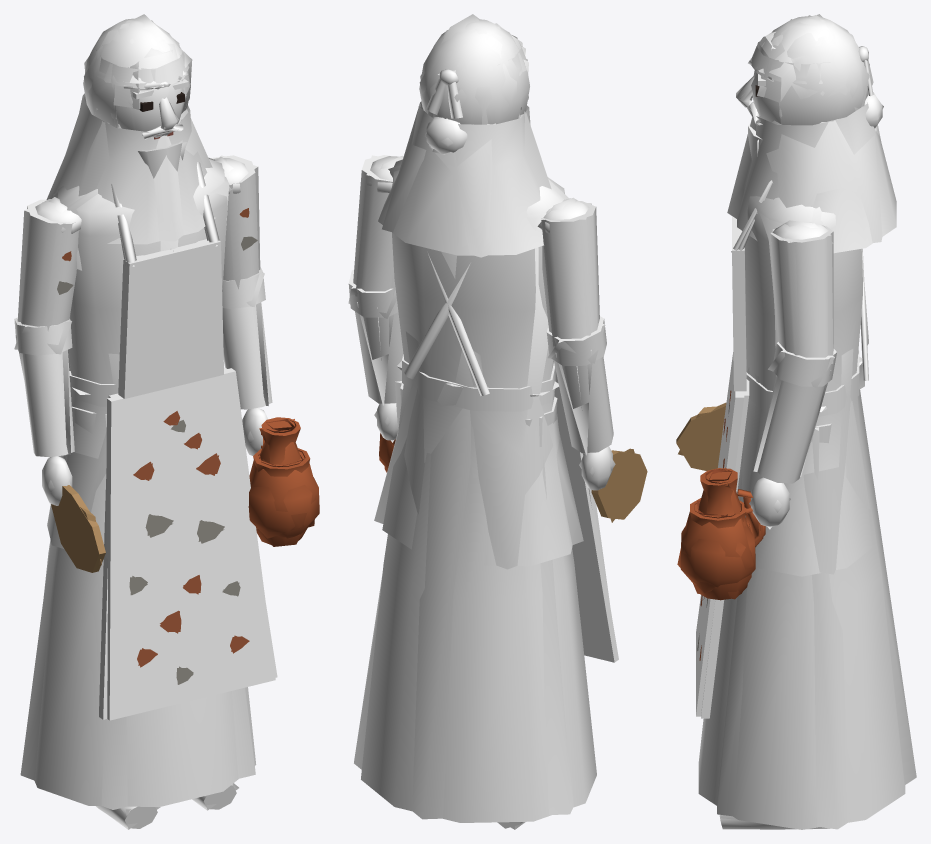
Rendered from char_potter.glb.
3 renders of one model, left to right at view 1: azimuth 30°, elevation 25°; view 2: azimuth 150°, elevation 25°; view 3: azimuth 270°, elevation 25°, orthographic. The views are drawn at different scales.
Visible parts, largest first — view 1: body__apron_bib_sex_m, body__sex_f, body__sex_m, head__hat_veil, arm_R__base, lod1__body__sex_f, lod1__head__hat_veil, arm_R__sleeves_full, arm_L__base, arm_L__sleeves_full, arm_L__vessel_pot, lod1__body__sex_m (+18 smaller); view 2: body__sex_f, body__sex_m, lod1__body__sex_f, head__hat_veil, lod1__body__sex_m, arm_R__base, body__apron_bib_sex_f, lod1__head__hat_veil, arm_L__base, arm_R__sleeves_full, arm_L__sleeves_full, lod1__arm_R__base (+8 smaller); view 3: body__sex_f, body__sex_m, lod1__body__sex_f, head__hat_veil, lod1__head__hat_veil, arm_L__base, lod1__body__sex_m, arm_L__sleeves_full, body__apron_bib_sex_m, body__apron_bib_sex_f, arm_L__vessel_pot, arm_L__vessel_jug (+10 smaller).
Boxes of the visible parts, x1,y1,x2,y2 form: body__apron_bib_sex_m: (106,162,275,720); body__sex_f: (34,539,256,807); body__sex_m: (47,159,227,548); head__hat_veil: (46,18,215,244); arm_R__base: (20,199,105,572); lod1__body__sex_f: (20,455,255,809); lod1__head__hat_veil: (66,14,212,241); arm_R__sleeves_full: (22,350,74,457); arm_L__base: (211,155,267,455); arm_L__sleeves_full: (222,302,272,409); arm_L__vessel_pot: (248,445,319,538); lod1__body__sex_m: (53,157,229,512); body__sex_f: (361,453,596,822); body__sex_m: (382,159,572,566); lod1__body__sex_f: (354,388,573,819); head__hat_veil: (378,19,543,255); lod1__body__sex_m: (374,165,583,569); arm_R__base: (541,198,647,519); body__apron_bib_sex_f: (404,253,618,662); lod1__head__hat_veil: (382,14,551,257); arm_L__base: (353,155,398,440); arm_R__sleeves_full: (553,357,613,453); arm_L__sleeves_full: (355,311,403,403); lod1__arm_R__base: (537,197,634,522); body__sex_f: (698,446,905,829); body__sex_m: (741,196,872,576); lod1__body__sex_f: (717,373,916,829); head__hat_veil: (737,16,896,253); lod1__head__hat_veil: (727,14,882,242); arm_L__base: (750,222,833,526); lod1__body__sex_m: (741,207,864,574); arm_L__sleeves_full: (757,375,824,483); body__apron_bib_sex_m: (696,180,772,716); body__apron_bib_sex_f: (701,180,868,718); arm_L__vessel_pot: (680,498,765,587); arm_L__vessel_jug: (693,468,763,600).
Bounding box in the file's own units: 0.613 × 1.76 × 0.4876.
